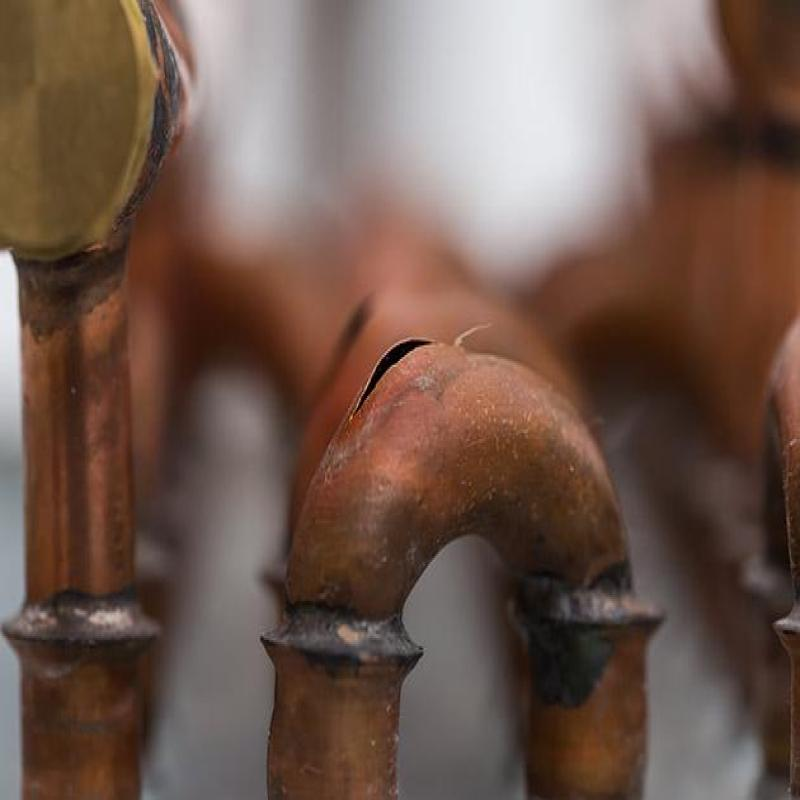Fracture: (340, 329, 462, 408)
